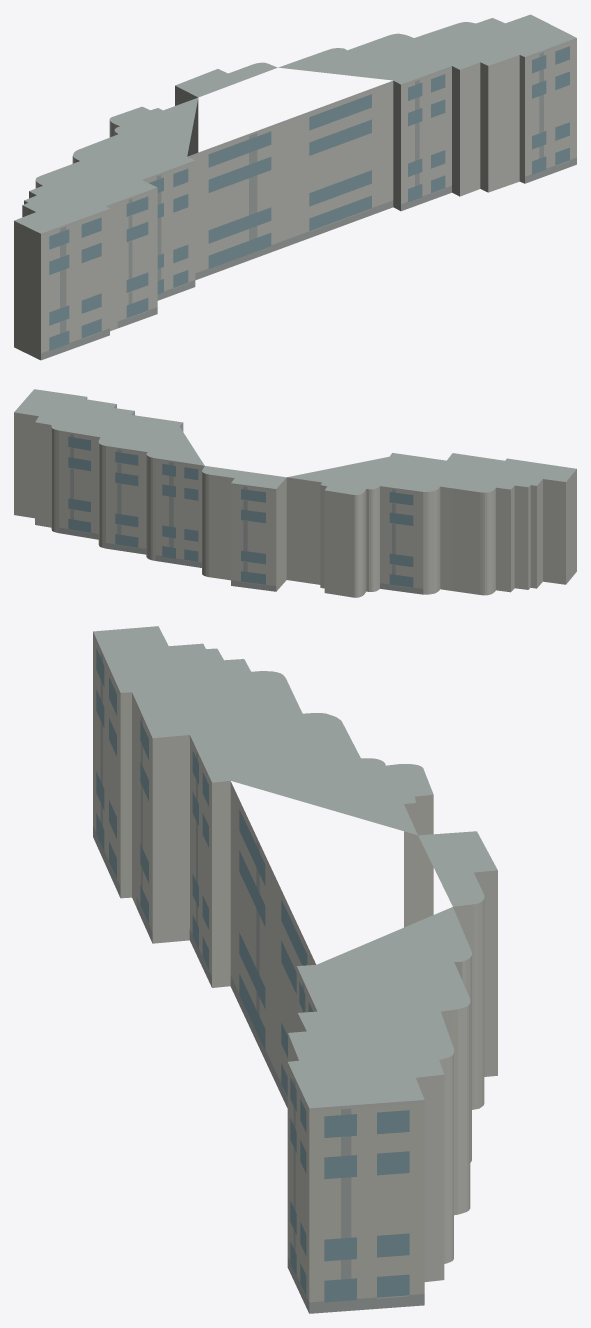
File: survey-upis-32941486.glb
The picture shows the model from 3 angles, top to bottom: view 1: azimuth 30°, elevation 25°; view 2: azimuth 150°, elevation 25°; view 3: azimuth 270°, elevation 25°; orthographic projection. The views are drawn at different scales.
Parts seen in each view (by area): view 1: survey-upis-32941486.tmp; view 2: survey-upis-32941486.tmp; view 3: survey-upis-32941486.tmp.
Boxes of the visible parts, x1,y1,x2,y2 form: survey-upis-32941486.tmp: (14,14,576,360); survey-upis-32941486.tmp: (14,389,576,597); survey-upis-32941486.tmp: (93,626,497,1313).
Size of the model in its own units: 76.77 by 15.25 by 27.25.
